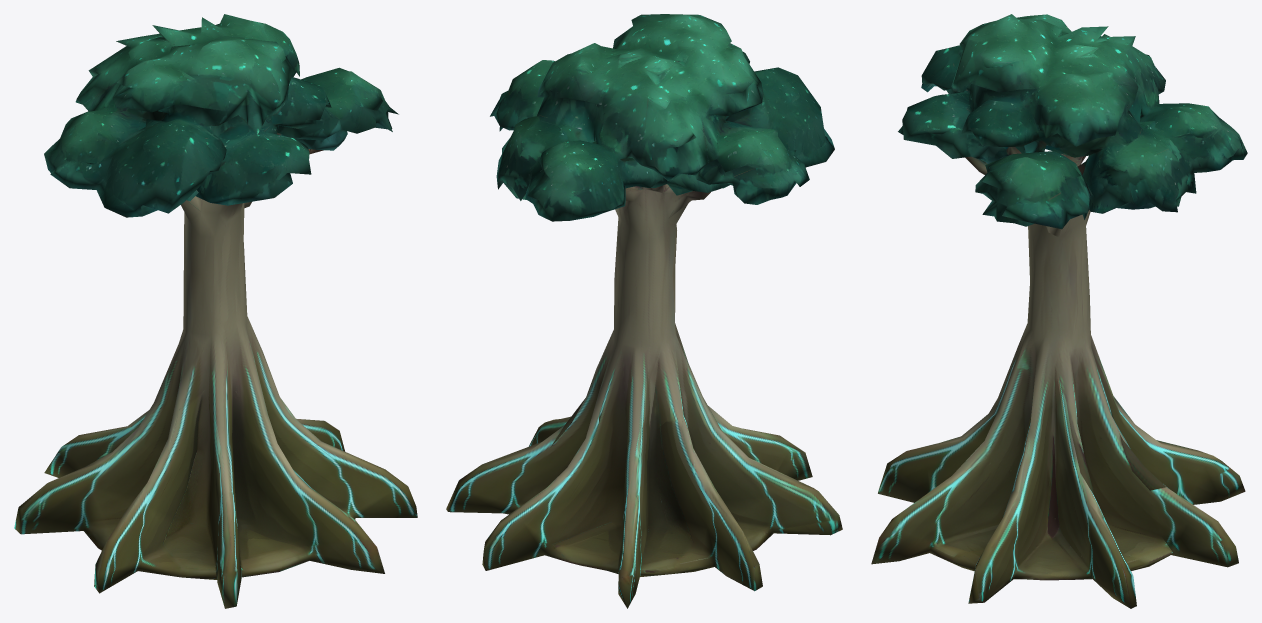
3 renders of one model, left to right at view 1: azimuth 30°, elevation 25°; view 2: azimuth 150°, elevation 25°; view 3: azimuth 270°, elevation 25°, orthographic. The views are drawn at different scales.
Visible parts, largest first — view 1: Mesh_0; view 2: Mesh_0; view 3: Mesh_0.
Boxes of the visible parts, x1=… form: Mesh_0: x1=14, y1=14, x2=417, y2=608; Mesh_0: x1=446, y1=14, x2=842, y2=608; Mesh_0: x1=871, y1=14, x2=1247, y2=608.
Size of the model in its own units: 1.3 by 1.91 by 1.3.
Materials: 1 (1 with a texture image).
